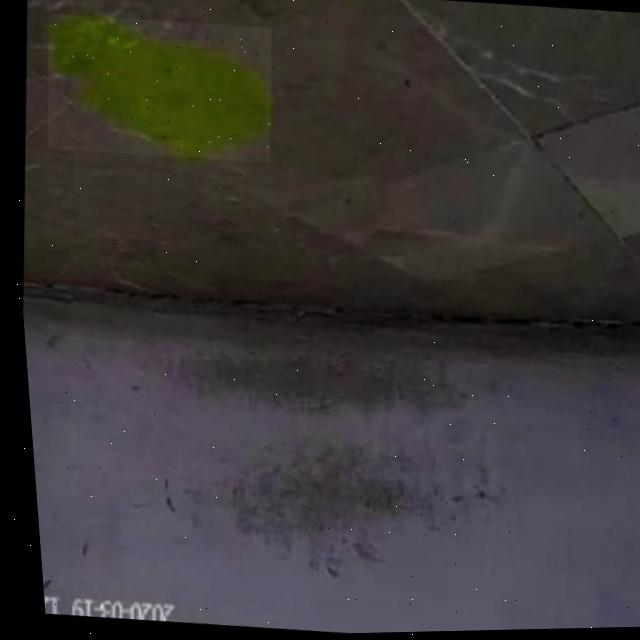spillage: (48, 17, 268, 158)
